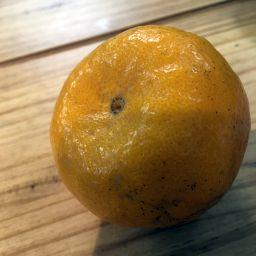Ripe: (52, 27, 249, 231)
